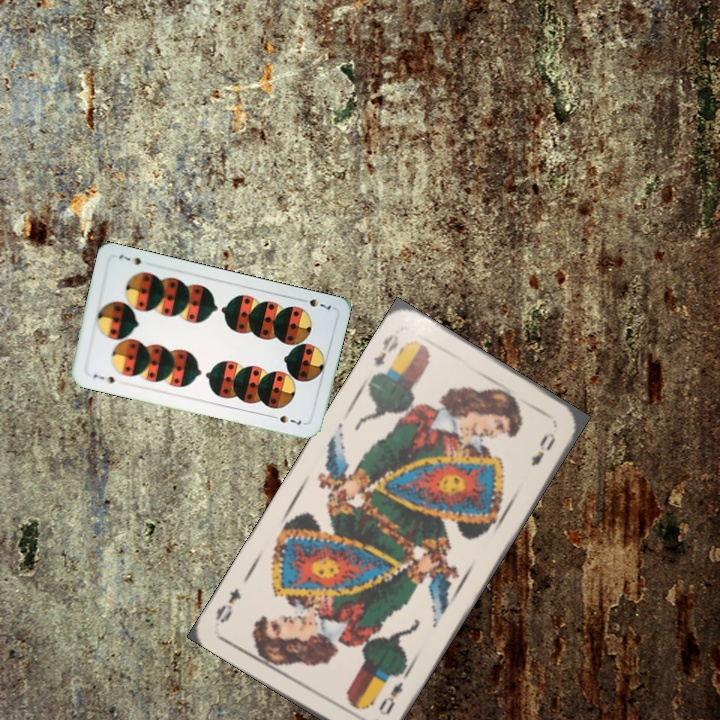EO: (374, 677, 406, 719), (369, 330, 402, 369)
S7: (295, 294, 334, 312), (89, 370, 117, 386)
